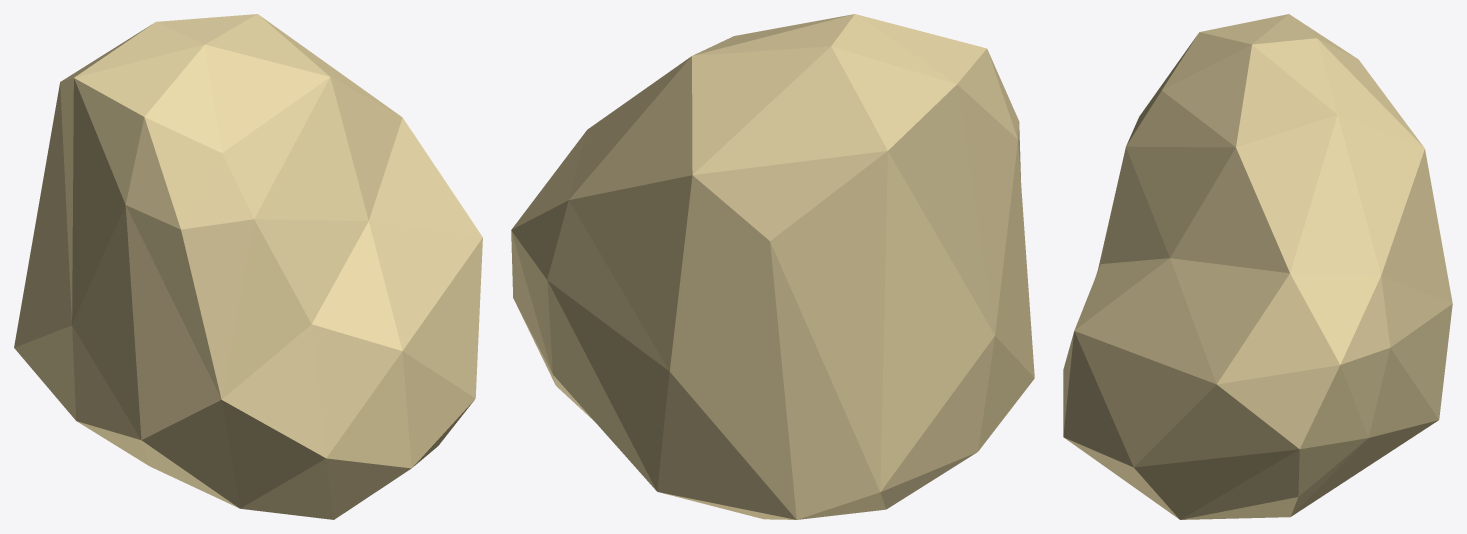
Rendered from Rock (71).fbx.
The picture shows the model from 3 angles, left to right: view 1: azimuth 30°, elevation 25°; view 2: azimuth 150°, elevation 25°; view 3: azimuth 270°, elevation 25°; orthographic projection. The views are drawn at different scales.
Visible parts, largest first — view 1: Asteroid70; view 2: Asteroid70; view 3: Asteroid70.
Part boxes in pixels (<box>): Asteroid70: <box>14,14,482,519</box>; Asteroid70: <box>511,14,1034,519</box>; Asteroid70: <box>1063,14,1452,519</box>.
Size of the model in its own units: 55.25 by 59.16 by 49.51.
